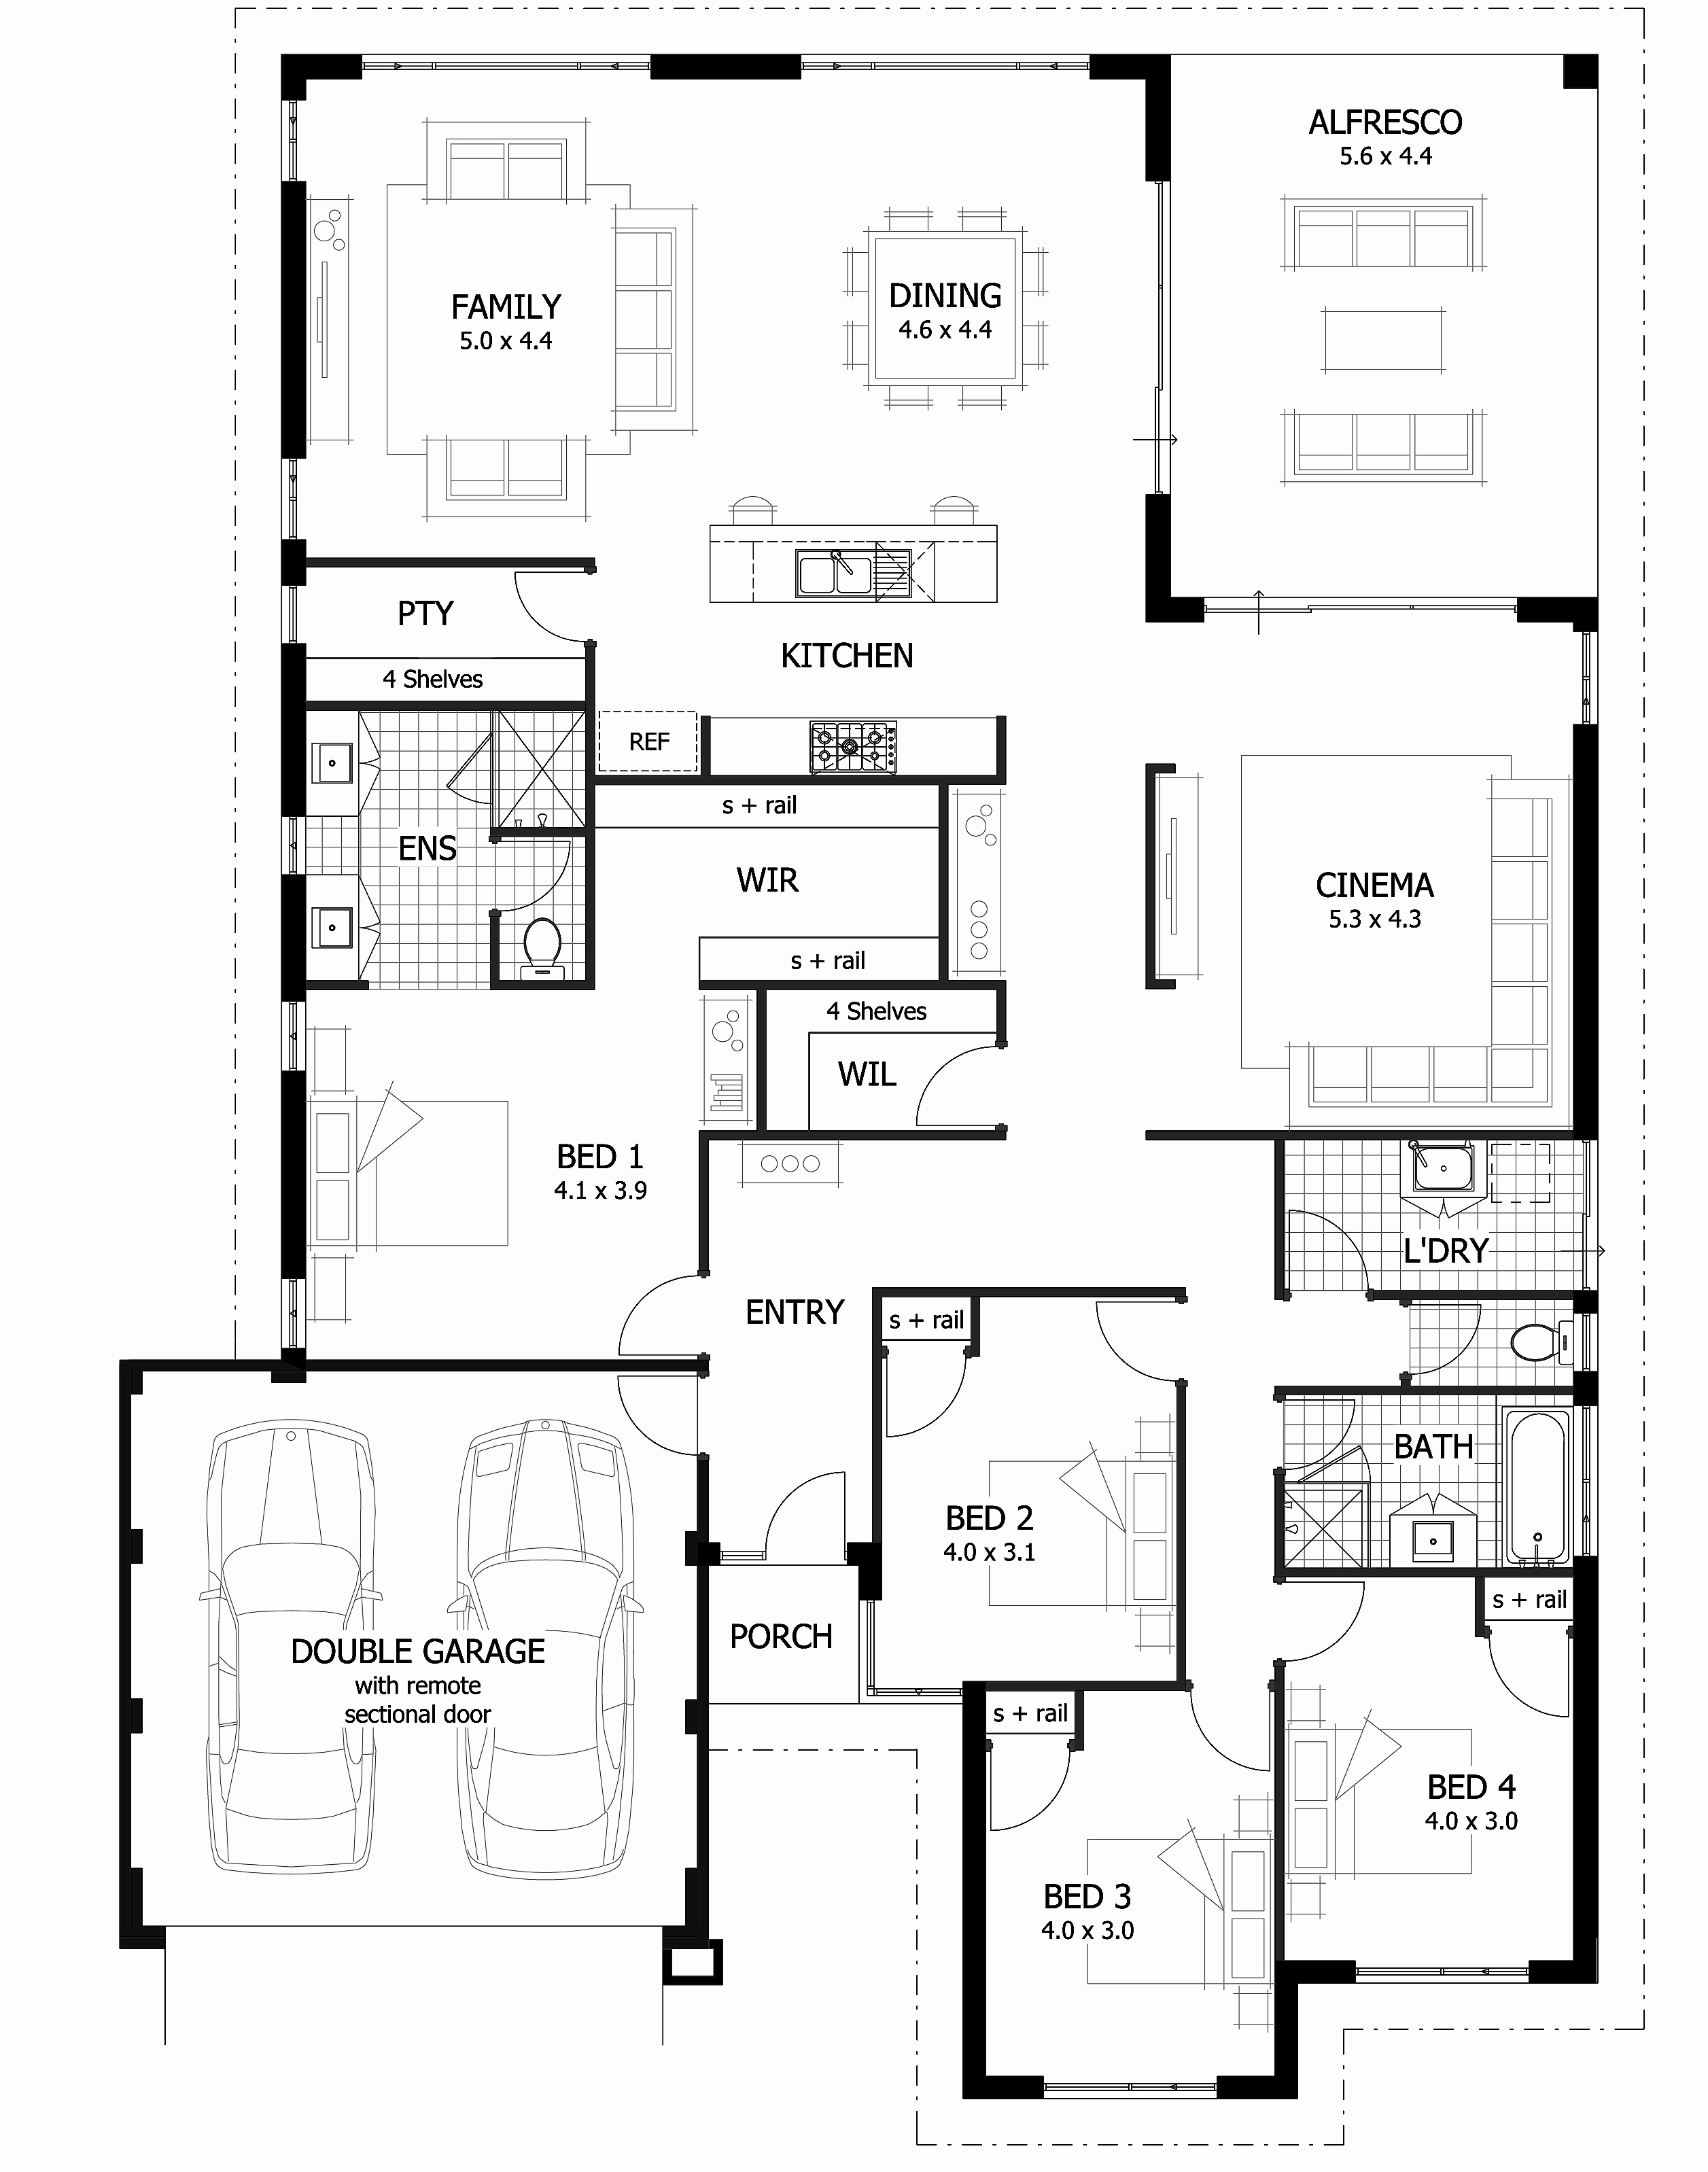window: (797, 51, 1095, 74), (1036, 2070, 1227, 2105), (1348, 1952, 1537, 1987), (356, 53, 656, 74), (1571, 1134, 1608, 1296), (1569, 1402, 1604, 1564), (1571, 624, 1602, 730), (278, 457, 308, 543), (277, 1276, 310, 1350), (277, 998, 307, 1077), (277, 95, 301, 187), (278, 814, 308, 878), (277, 582, 307, 645)
